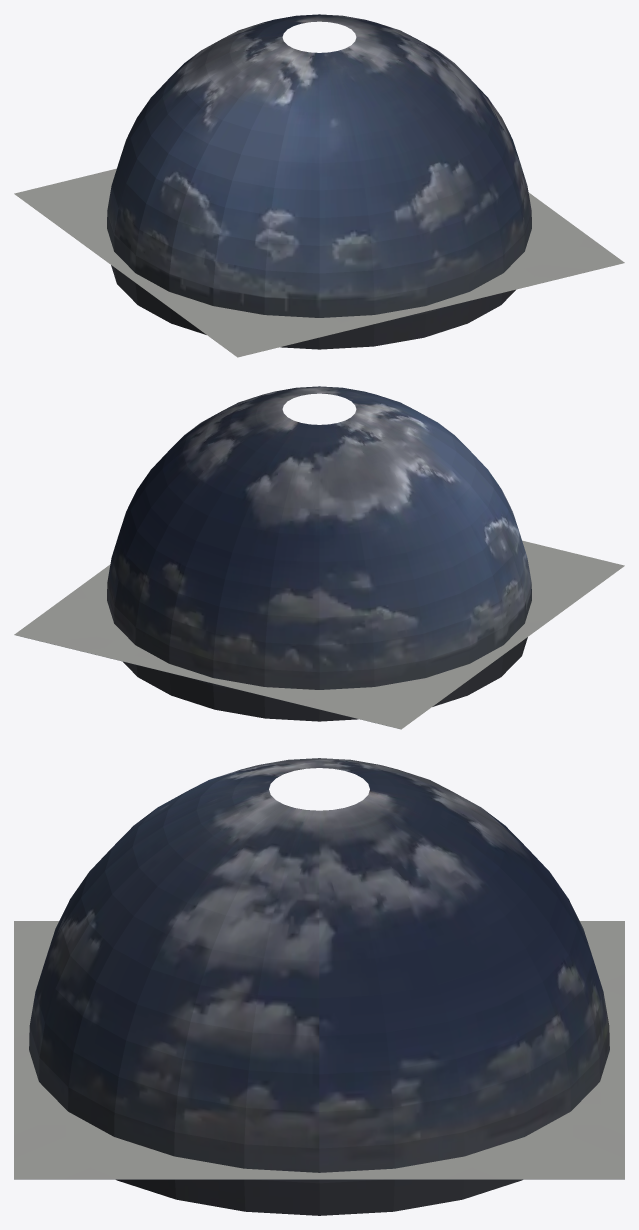
Rendered from z-exterior.light.60892850.glb.
3 views of the same model, one above another, from view 1: azimuth 30°, elevation 25°; view 2: azimuth 150°, elevation 25°; view 3: azimuth 270°, elevation 25° (orthographic). The views are drawn at different scales.
Parts seen in each view (by area): view 1: exterior_band, mid_houses; view 2: exterior_band, mid_houses; view 3: exterior_band, mid_houses.
Boxes of the visible parts, box(x1,y1,x2,y2) form: exterior_band: box(107, 14, 531, 349); mid_houses: box(14, 168, 624, 357); exterior_band: box(107, 386, 531, 721); mid_houses: box(14, 540, 624, 729); exterior_band: box(29, 758, 609, 1215); mid_houses: box(14, 921, 624, 1179).
Size of the model in its own units: 840 by 463 by 840.
Materials: 2 (2 with a texture image).
